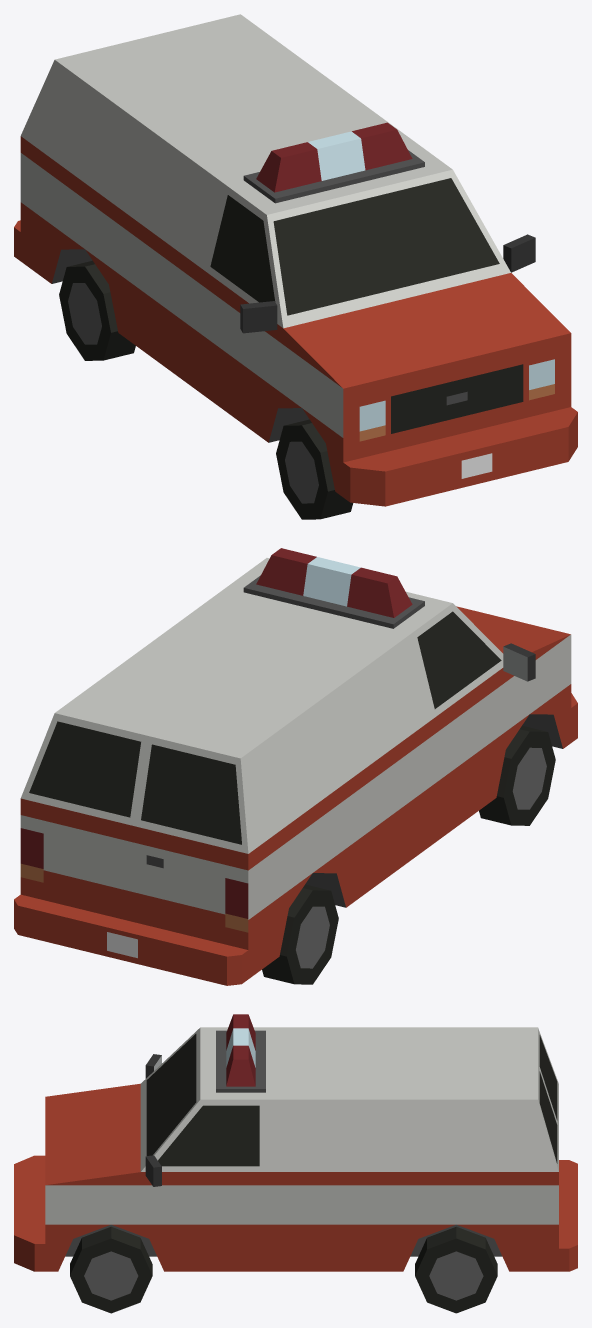
The model's file is Veh_Emergency_Van.glb.
The picture shows the model from 3 angles, top to bottom: view 1: azimuth 30°, elevation 25°; view 2: azimuth 150°, elevation 25°; view 3: azimuth 270°, elevation 25°; orthographic projection. The views are drawn at different scales.
Visible parts, largest first — view 1: Emergency_Van, Wheel_FR, Wheel_RR; view 2: Emergency_Van, Wheel_FR, Wheel_RR; view 3: Emergency_Van, Wheel_FL, Wheel_RL.
Boxes of the visible parts, box(x1,y1,x2,y2) form: Emergency_Van: box(14, 14, 577, 506); Wheel_FR: box(276, 419, 353, 519); Wheel_RR: box(59, 260, 135, 360); Emergency_Van: box(14, 548, 577, 985); Wheel_FR: box(479, 725, 555, 825); Wheel_RR: box(262, 884, 338, 984); Emergency_Van: box(14, 1014, 577, 1271); Wheel_FL: box(70, 1226, 152, 1313); Wheel_RL: box(415, 1226, 497, 1313).
Size of the model in its own units: 1.38 by 1.31 by 2.89.
1 material, 1 textured.
